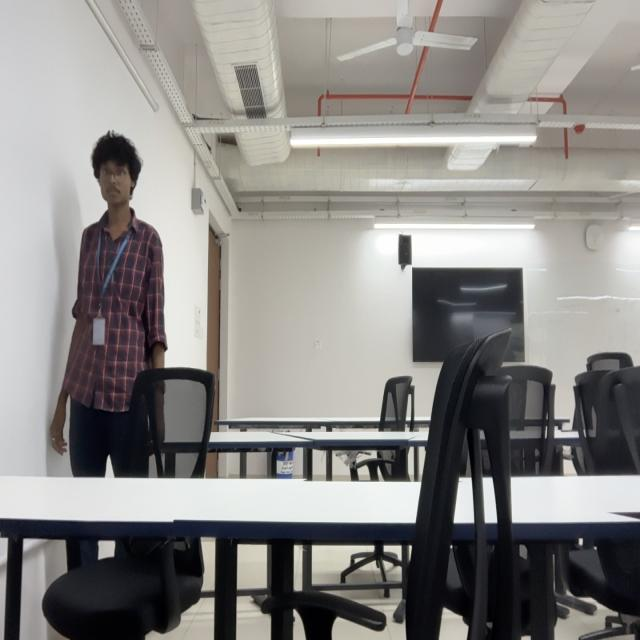darshan: (90, 121, 144, 212)
